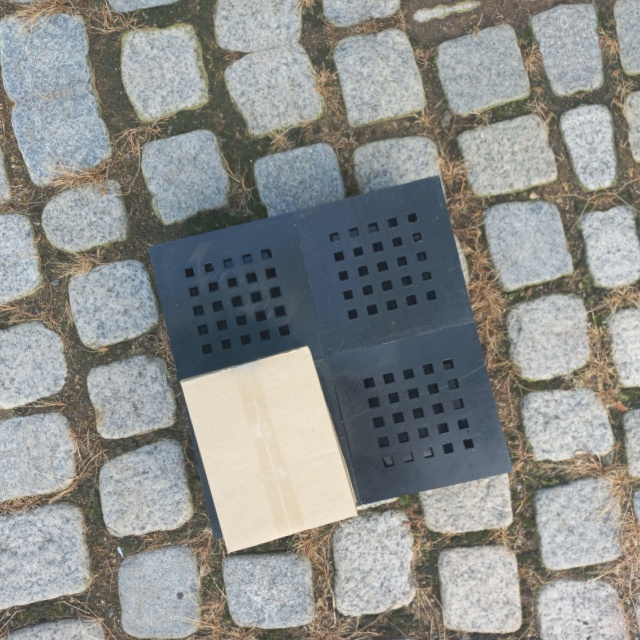box: (176, 342, 361, 557)
pallet: (143, 168, 524, 532)
